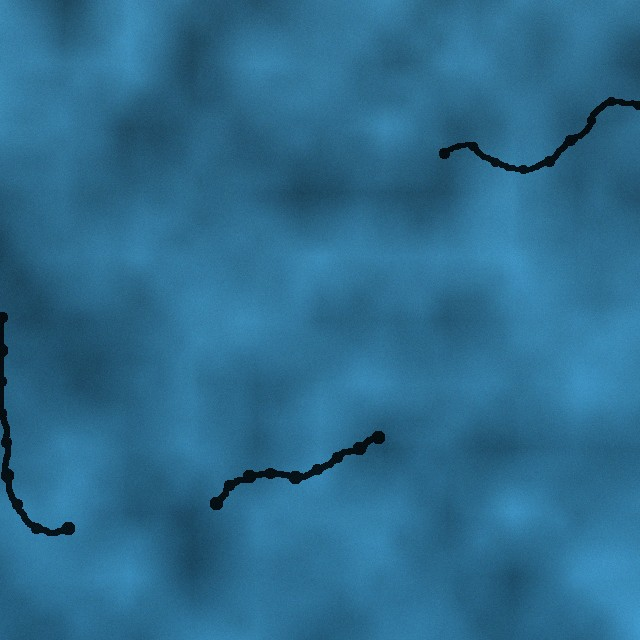crack: (0, 309, 74, 539), (439, 96, 639, 175), (210, 431, 384, 510)
